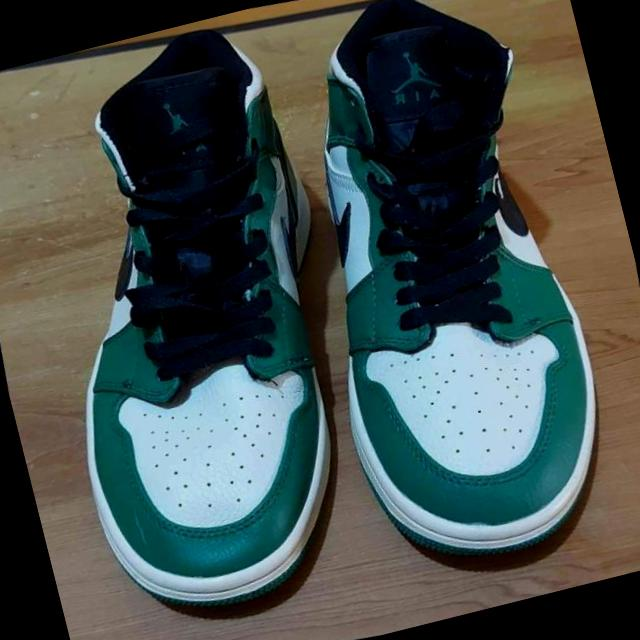nike_fake_jordan: (0, 1, 418, 640), (234, 0, 640, 595)
